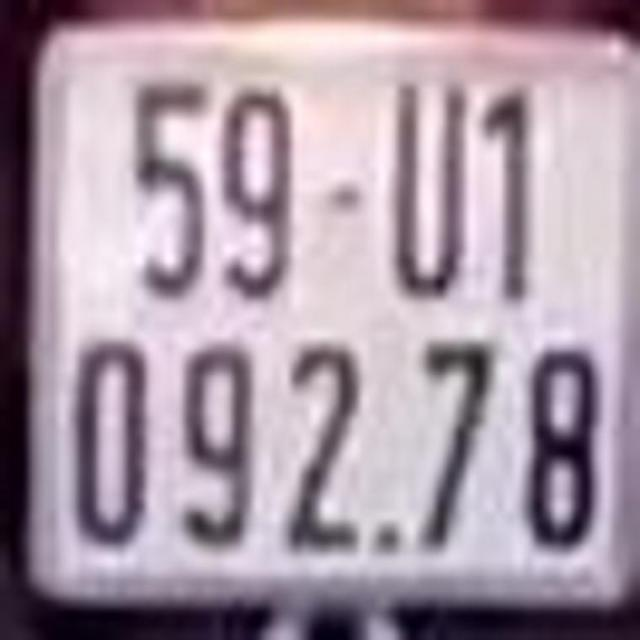0: (77, 336, 150, 545)
1: (484, 83, 534, 295)
2: (288, 339, 360, 556)
5: (132, 75, 218, 295)
7: (416, 332, 494, 543)
8: (528, 348, 597, 552)
9: (224, 84, 292, 298), (184, 342, 250, 548)
U: (397, 74, 470, 298)
